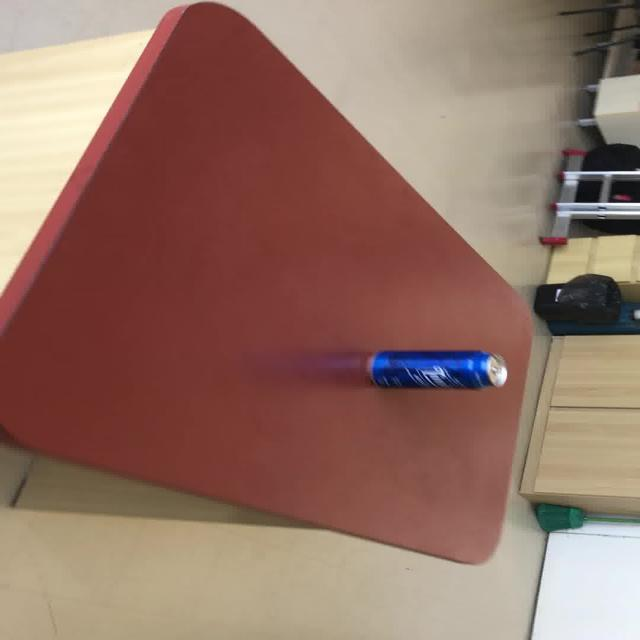tonic: (296, 348, 508, 389), (363, 349, 508, 390)
